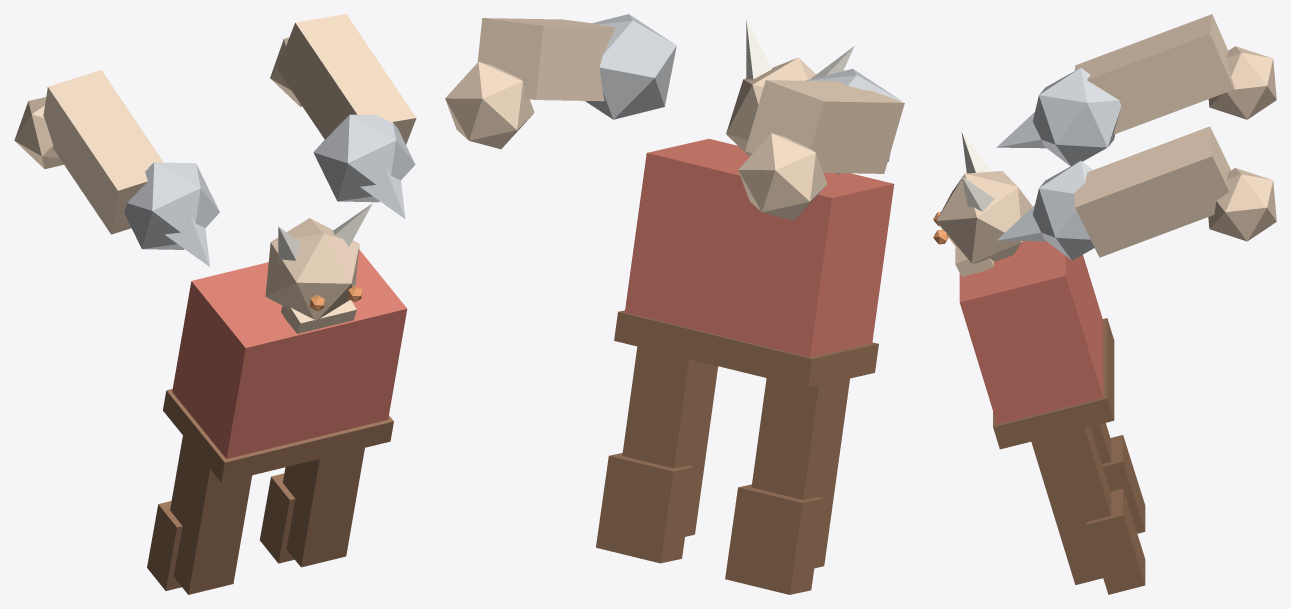
Rendered from npcpose_brute_attack_09.glb.
The picture shows the model from 3 angles, left to right: view 1: azimuth 30°, elevation 25°; view 2: azimuth 150°, elevation 25°; view 3: azimuth 270°, elevation 25°; orthographic projection. The views are drawn at different scales.
Visible parts, largest first — view 1: npcpose; view 2: npcpose; view 3: npcpose.
Part boxes in pixels (x1,y1,x2,y2): npcpose: [14, 14, 416, 594]; npcpose: [445, 14, 904, 594]; npcpose: [933, 14, 1276, 594].
Bounding box in the file's own units: 1.43 × 2.08 × 1.36.
